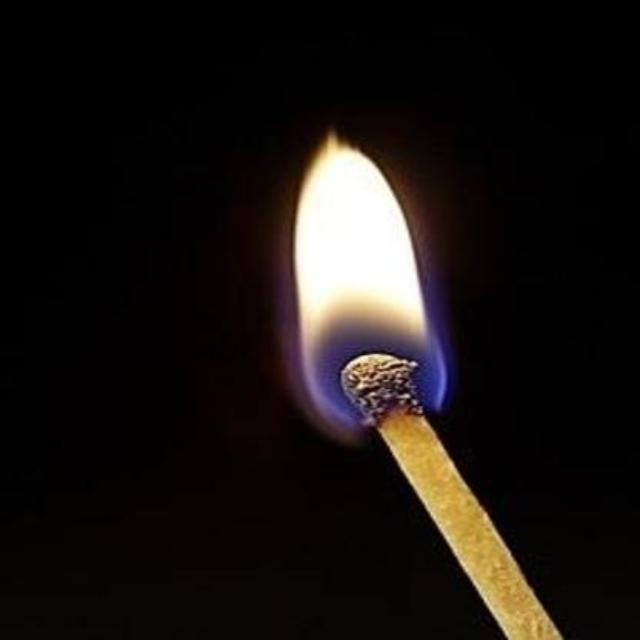Fire: (295, 132, 447, 426)
